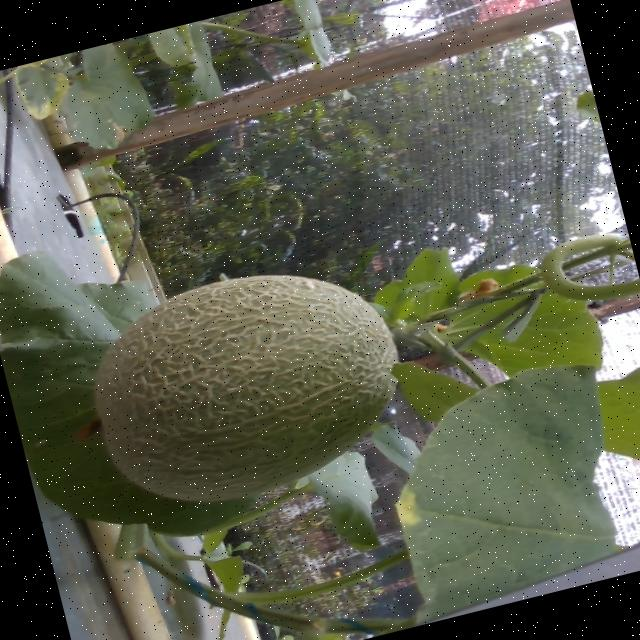melon: (93, 276, 396, 502)
